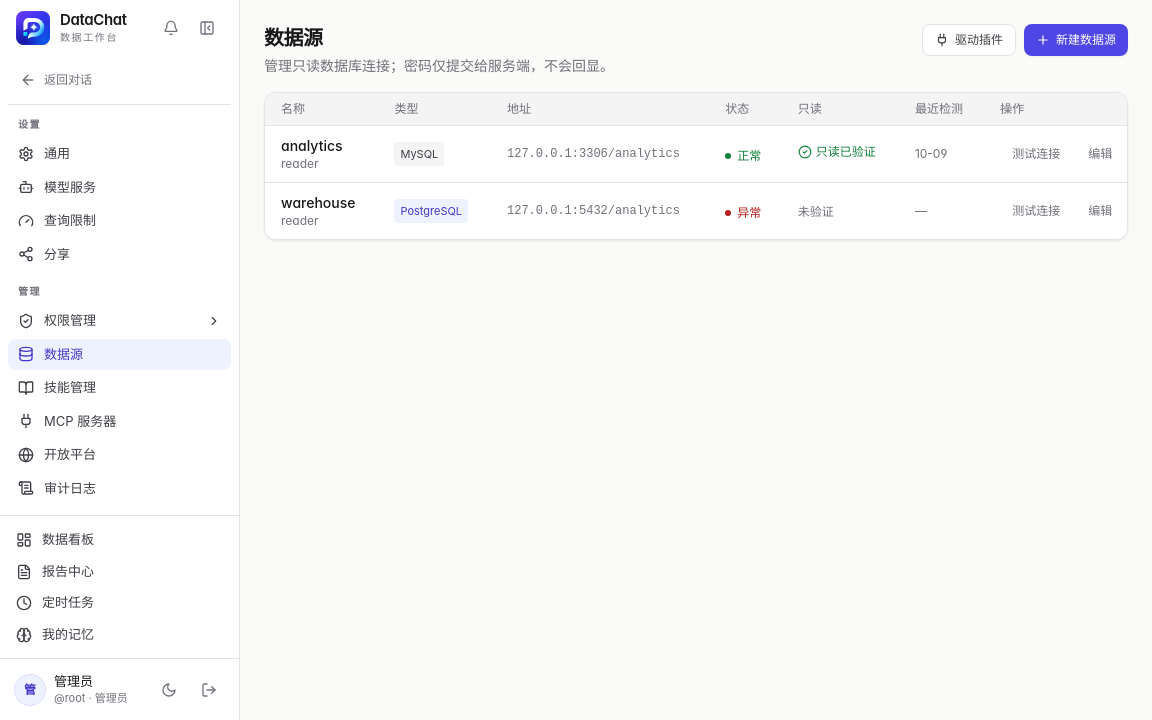
DatasourcesPage › edits without sending a password when the field is blank
This screenshot has width=1152, height=720.
Expected: the text "analytics" is shown, [281, 137, 342, 154]
Click the button "编辑" in the row of "MySQL". click: (1100, 154)
box: [1076, 138, 1124, 170]
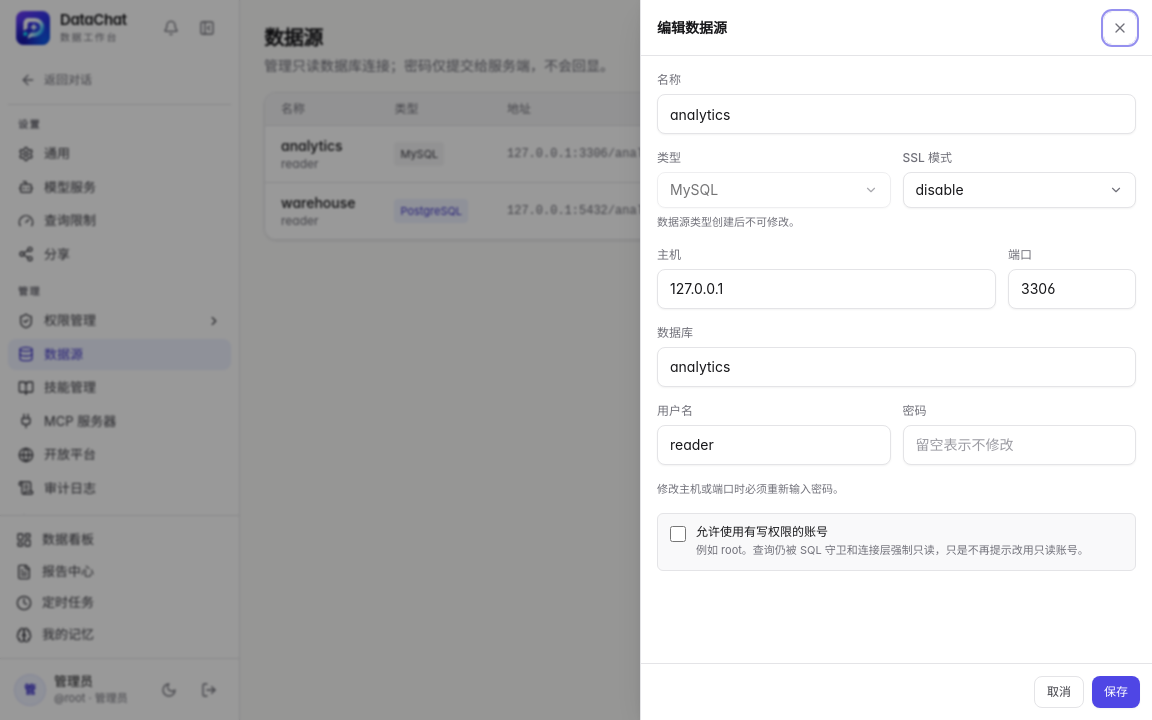
Expected: the password field labelled "密码" is empty, [902, 424, 1136, 464]
Click the button "保存". click: (1116, 692)
box: [1092, 676, 1140, 708]
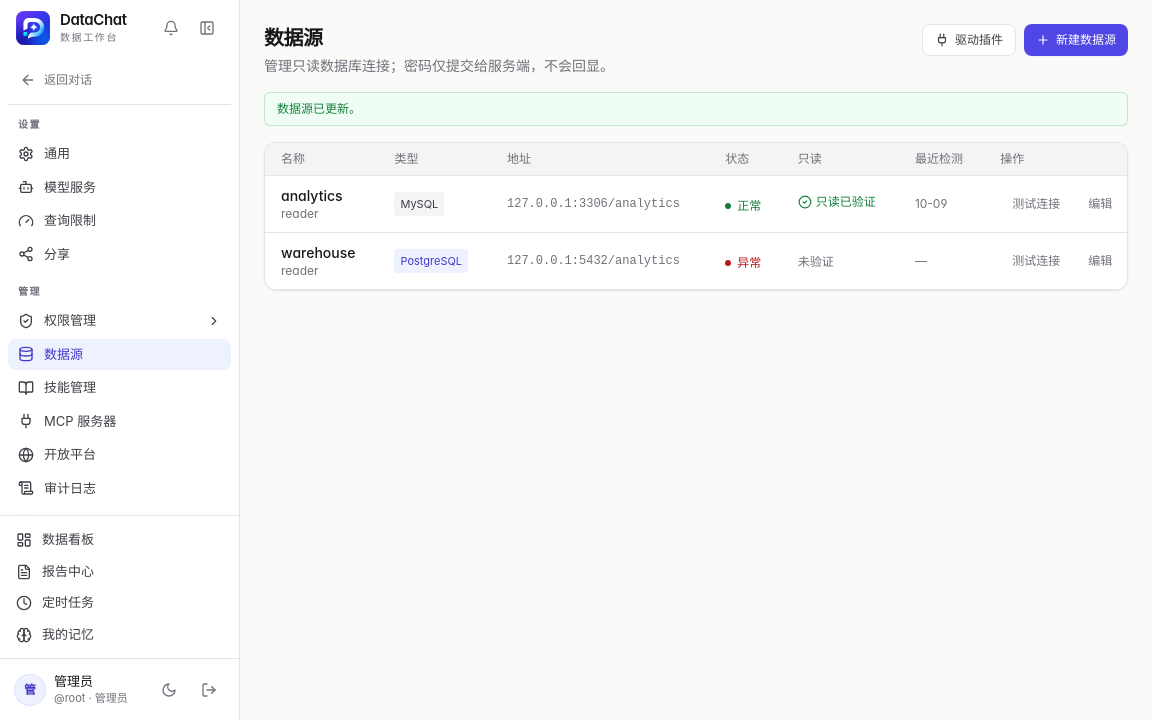
Expected: the text "analytics" is shown, [281, 187, 342, 204]
Expected: the heading "编辑数据源" is gone
